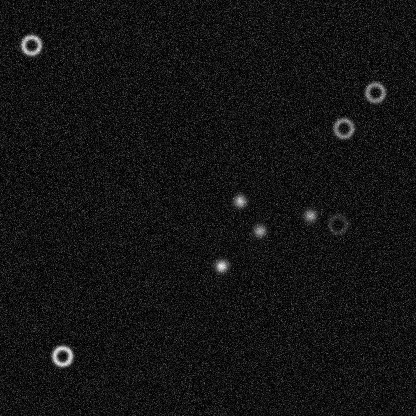Ring: (331, 116, 355, 140), (50, 343, 74, 367), (363, 80, 387, 104), (325, 212, 349, 236), (19, 32, 43, 56)
Spot: (251, 222, 267, 238), (231, 193, 247, 209), (301, 207, 317, 223), (213, 257, 229, 273)
